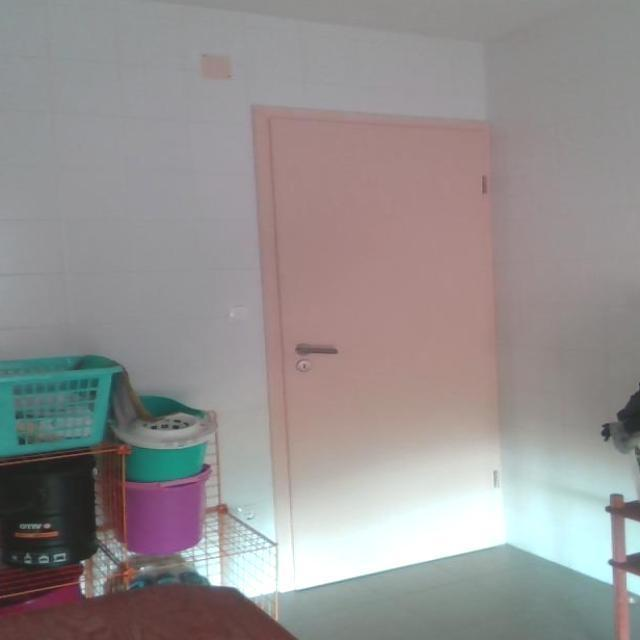door: (251, 103, 504, 592)
